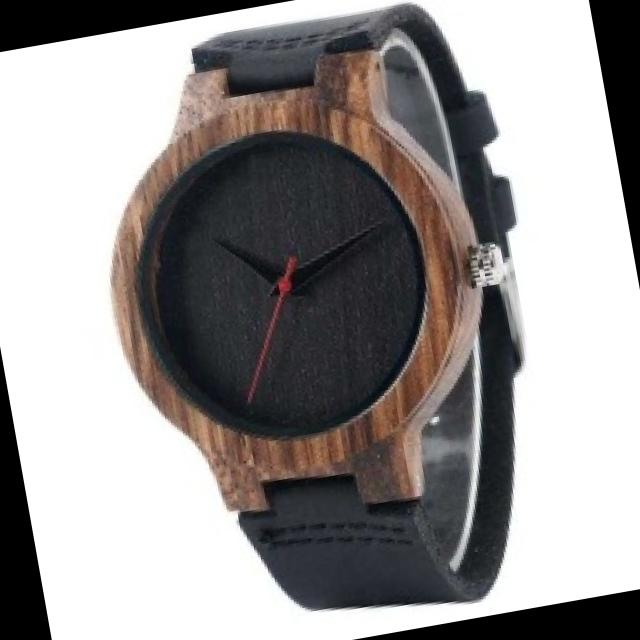saat: (54, 0, 589, 640)
